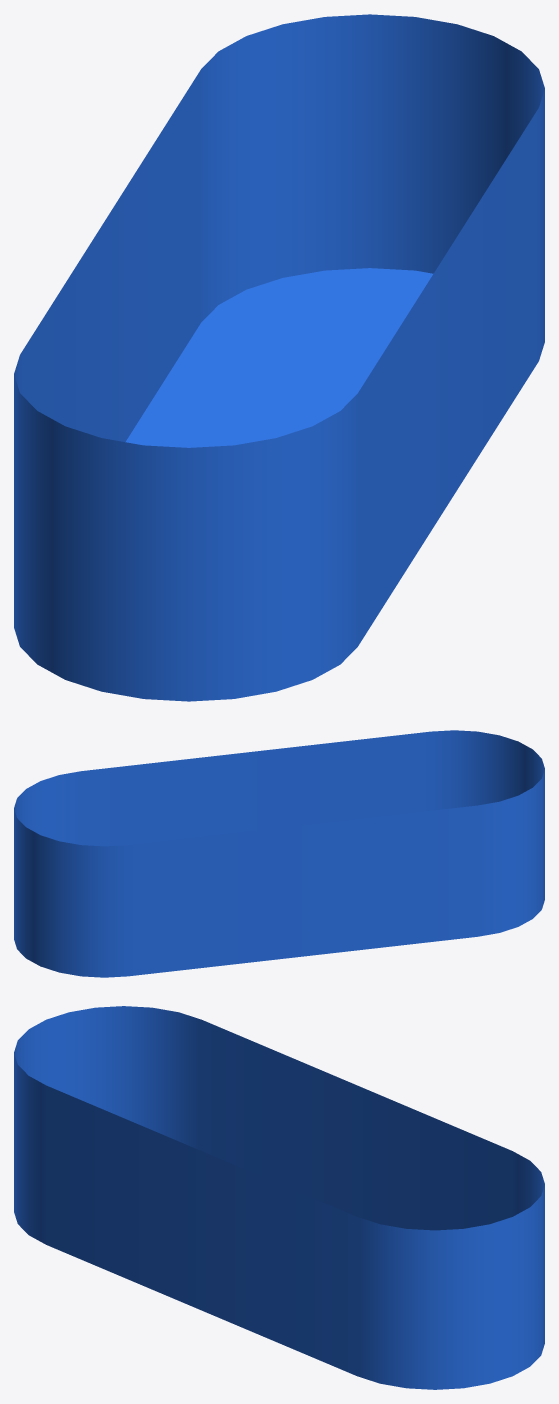
The model's file is original-13.obj.
The picture shows the model from 3 angles, top to bottom: view 1: azimuth 30°, elevation 25°; view 2: azimuth 150°, elevation 25°; view 3: azimuth 270°, elevation 25°; orthographic projection. The views are drawn at different scales.
Parts seen in each view (by area): view 1: Group8/mesh17/mesh17-geometry#mesh17-geometry; view 2: Group8/mesh17/mesh17-geometry#mesh17-geometry; view 3: Group8/mesh17/mesh17-geometry#mesh17-geometry.
Boxes of the visible parts, box(x1,y1,x2,y2) form: Group8/mesh17/mesh17-geometry#mesh17-geometry: box(14, 14, 544, 701); Group8/mesh17/mesh17-geometry#mesh17-geometry: box(14, 730, 544, 977); Group8/mesh17/mesh17-geometry#mesh17-geometry: box(14, 1006, 544, 1389).
Bounding box in the file's own units: 0.0413 × 0.0137 × 0.0413.
